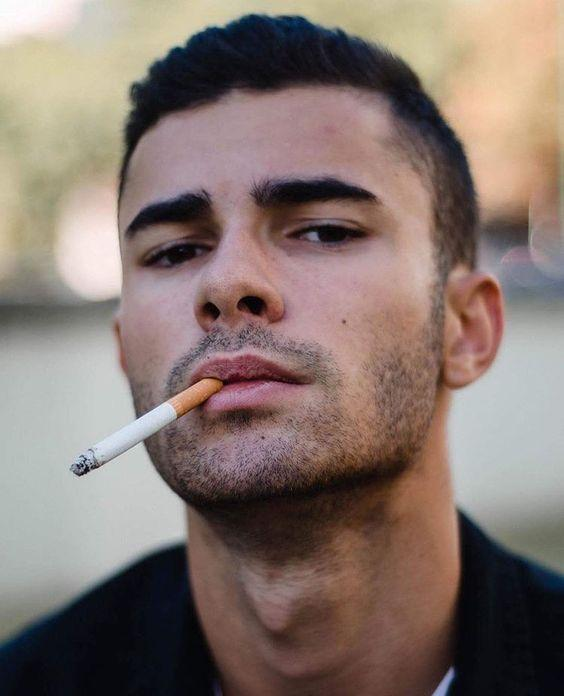cigarette: (69, 377, 224, 476)
